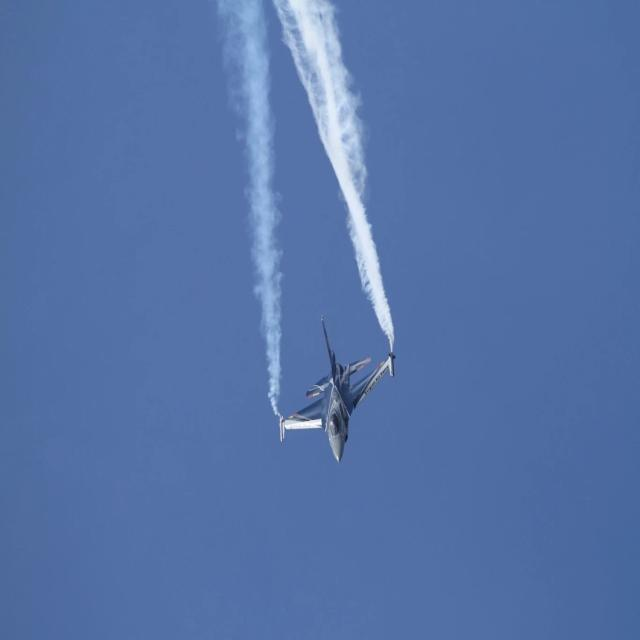MIL_Plane: (277, 314, 396, 467)
